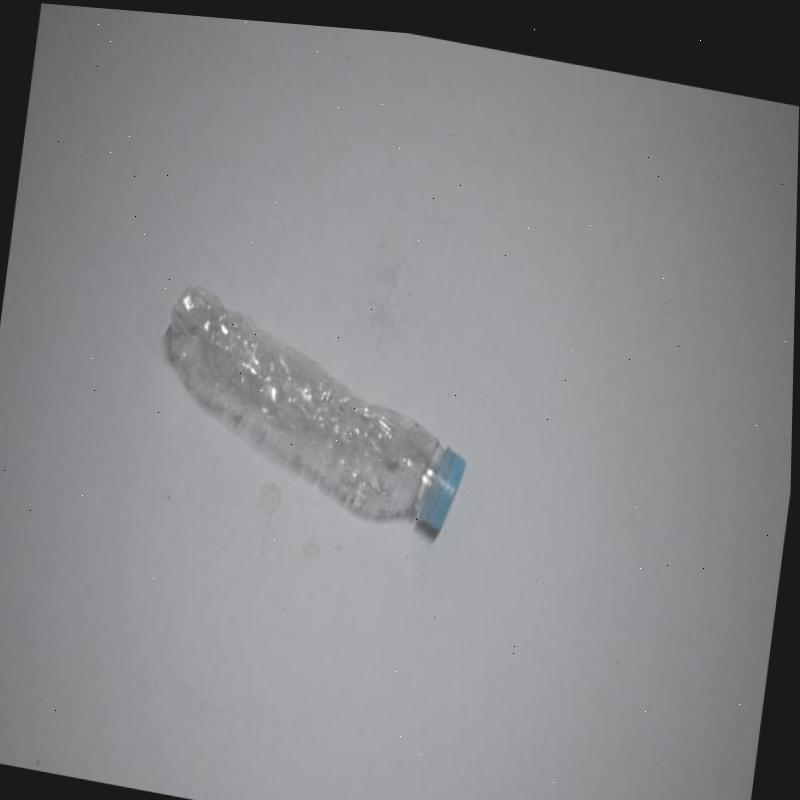botella: (148, 274, 482, 535)
